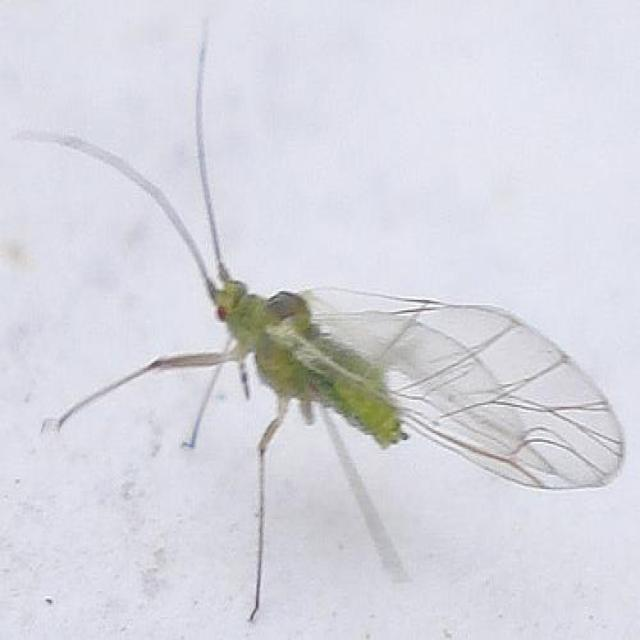Aphids: (50, 80, 633, 604)
